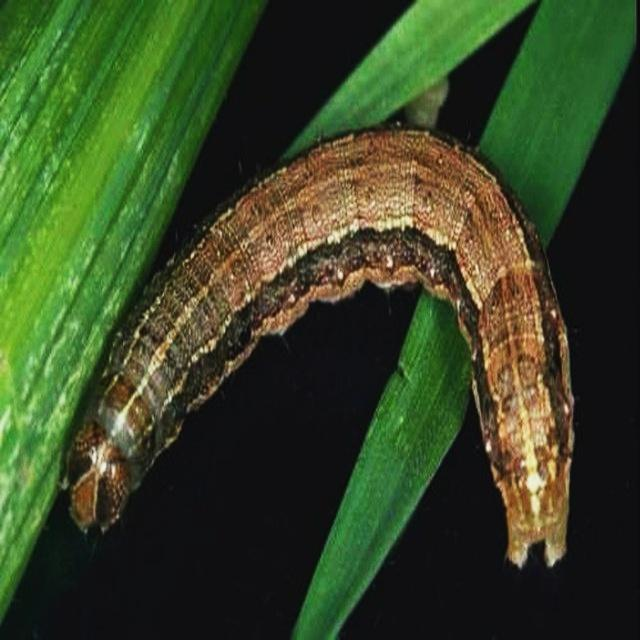gusano_cogollero: (60, 121, 570, 572)
